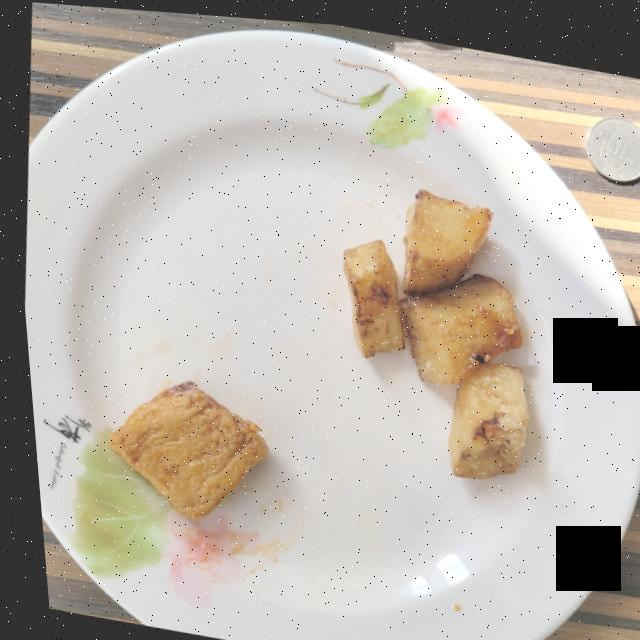coin: (583, 107, 640, 173)
creamy tofu: (102, 378, 260, 517)
fried potato: (339, 183, 521, 472)
